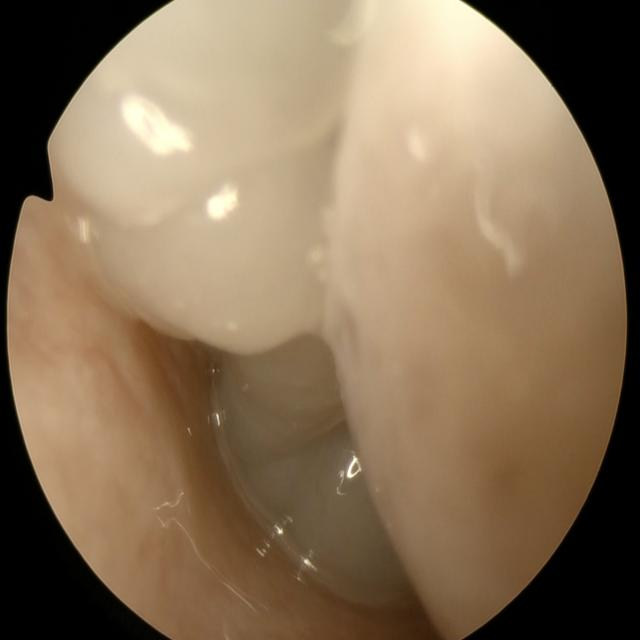POLYPS: (48, 0, 349, 342), (177, 373, 335, 640)
